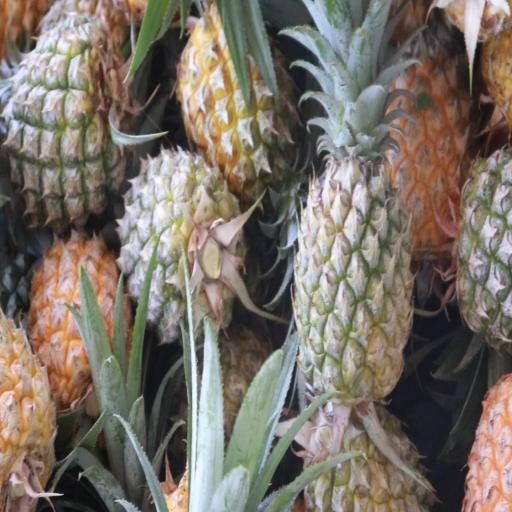------------------------------: (123, 156, 241, 335), (180, 6, 296, 182), (8, 36, 122, 212)
Pineapple - v8 v1: (392, 20, 476, 262), (33, 238, 128, 402), (1, 296, 58, 508)
